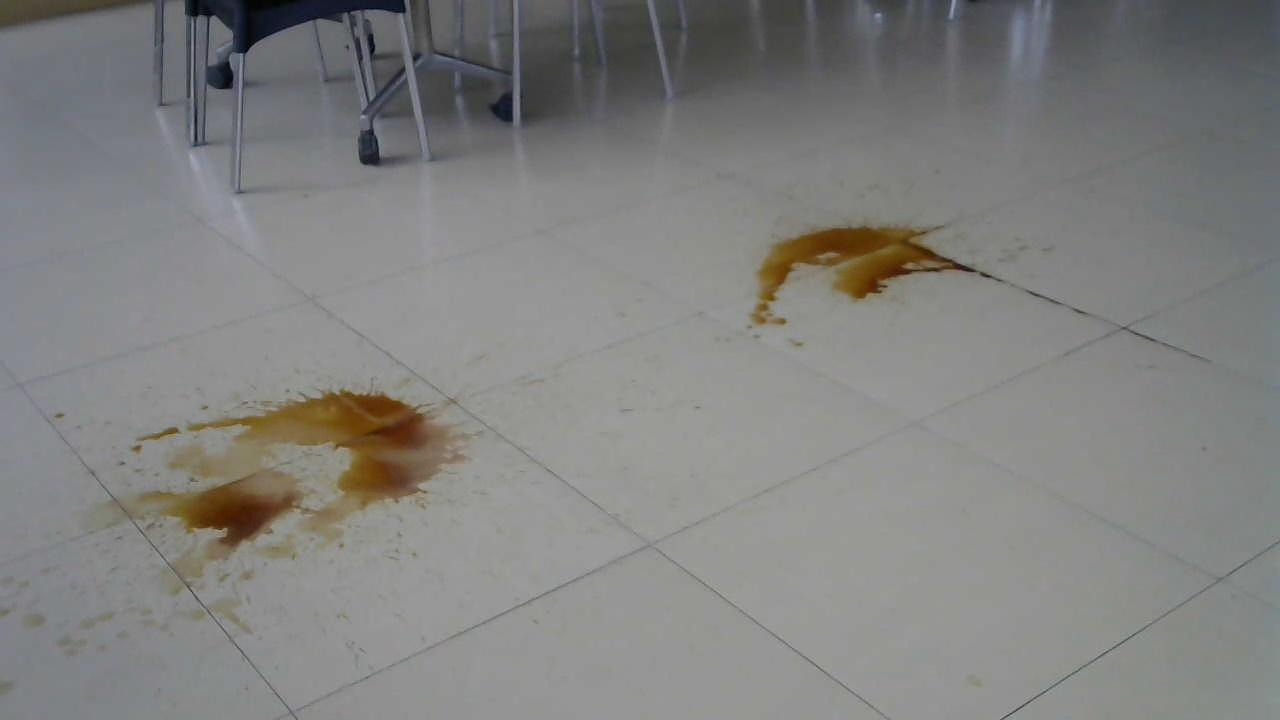dirty_floor: (71, 385, 485, 571), (734, 209, 1027, 328)
